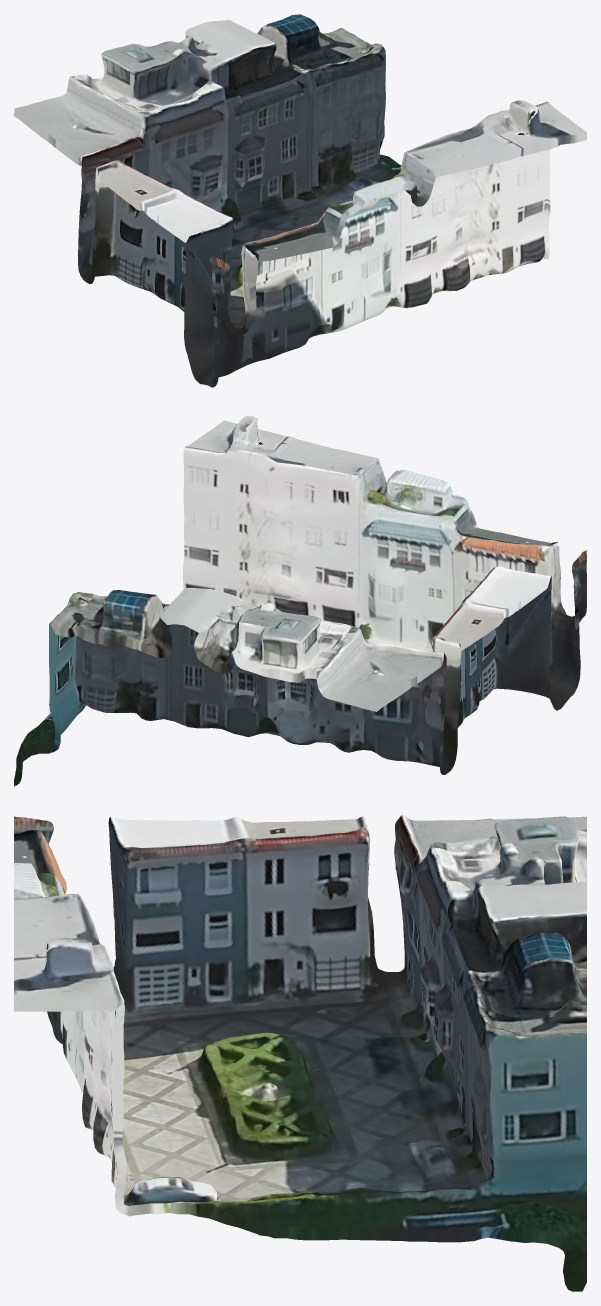
The model's file is z20-167720-405194-h0-yup-uvflip-v3-world.glb.
3 renders of one model, top to bottom at view 1: azimuth 30°, elevation 25°; view 2: azimuth 150°, elevation 25°; view 3: azimuth 270°, elevation 25°, orthographic. The views are drawn at different scales.
Bounding box in the file's own units: 30.2 × 18.92 × 30.32.
1 material, 1 textured.
